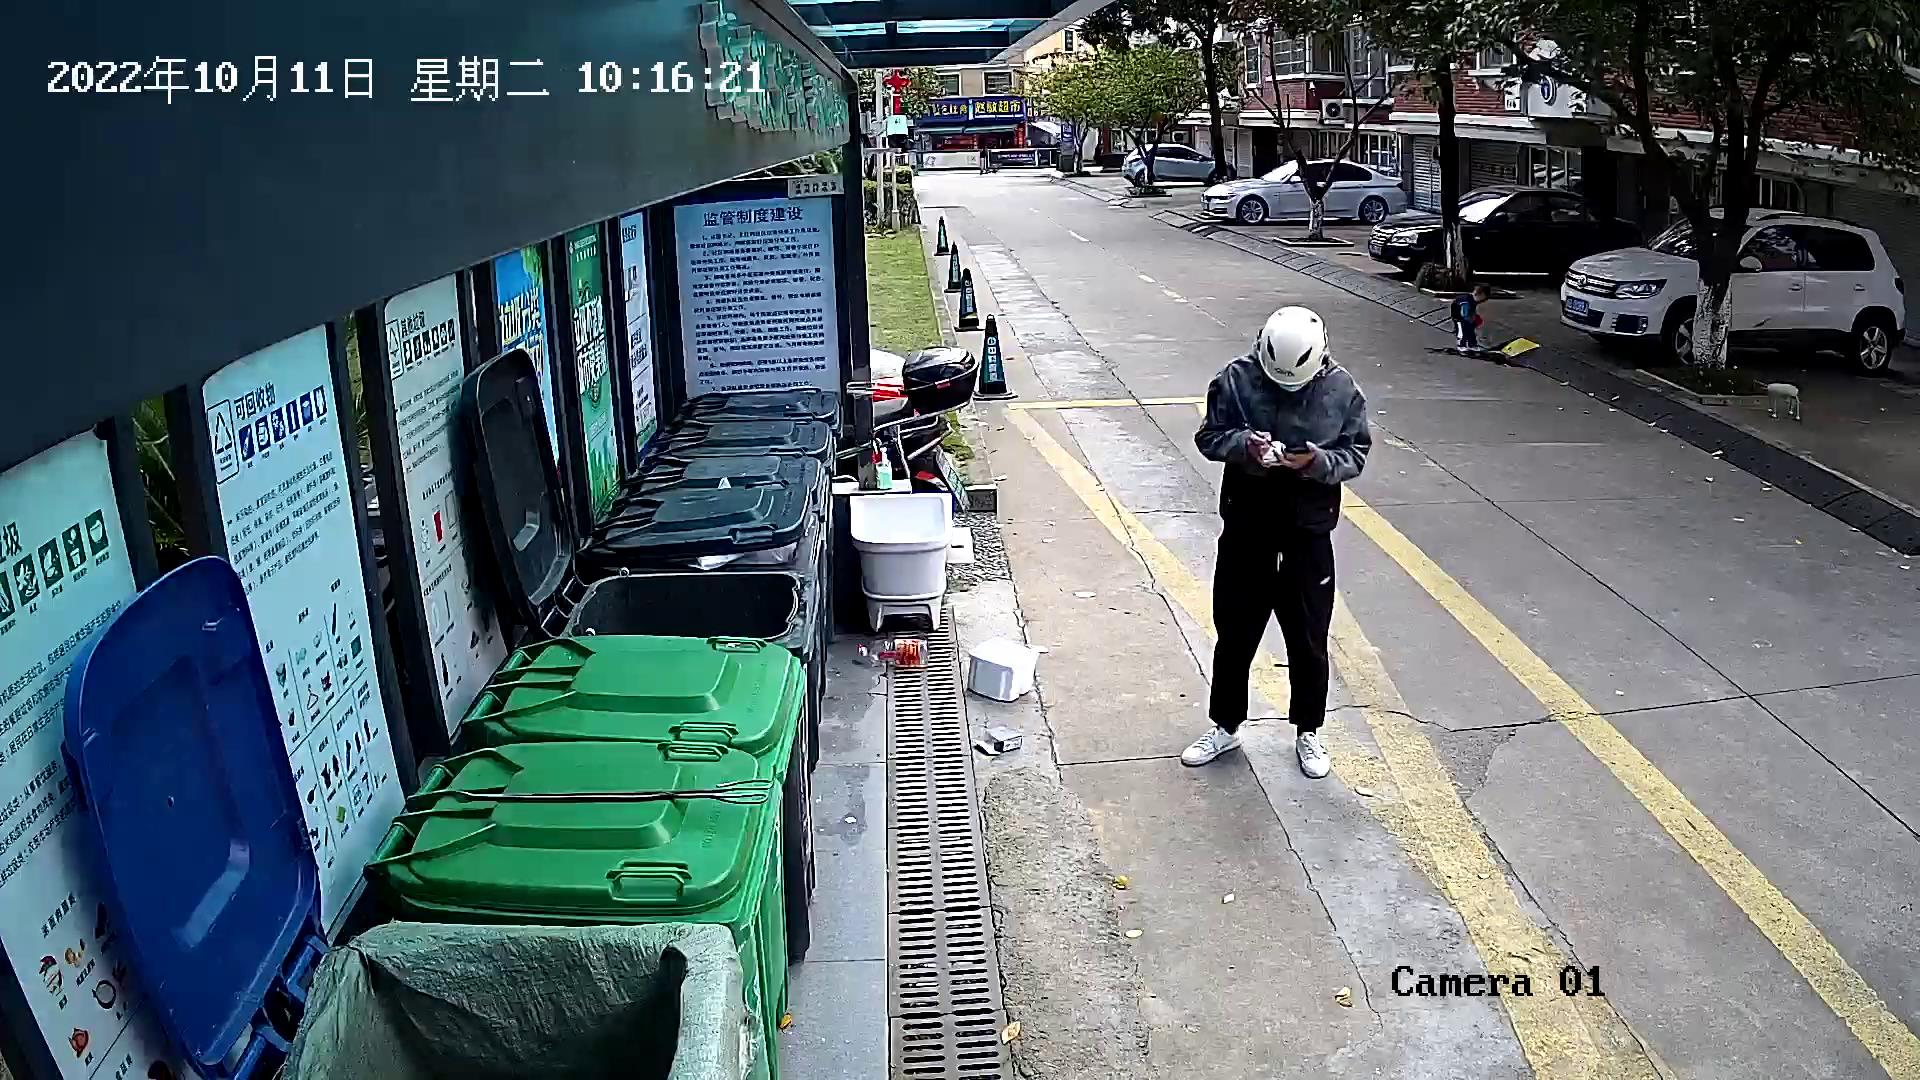paomozhipin: (962, 633, 1044, 710)
person: (1173, 297, 1380, 788)
suliaozhipin: (850, 631, 939, 672)
zhizhipin: (964, 720, 1030, 760)
